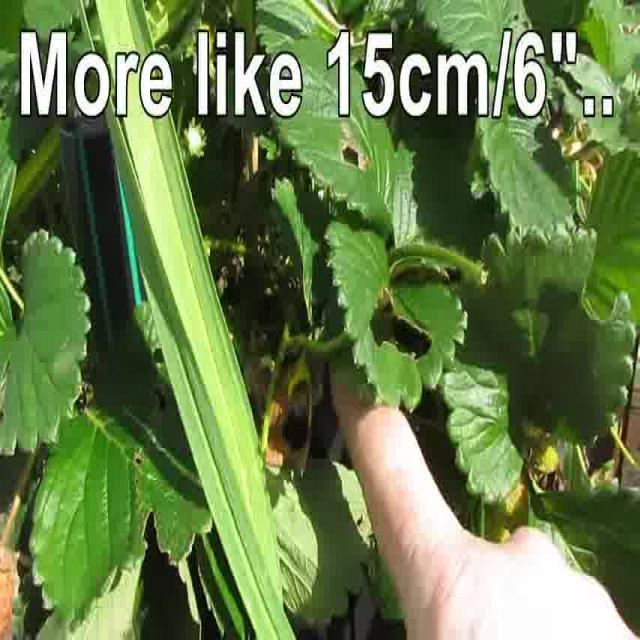Fruta sana: (488, 459, 528, 527), (528, 428, 560, 472), (478, 501, 506, 544)
Moho gris: (0, 543, 21, 639)
